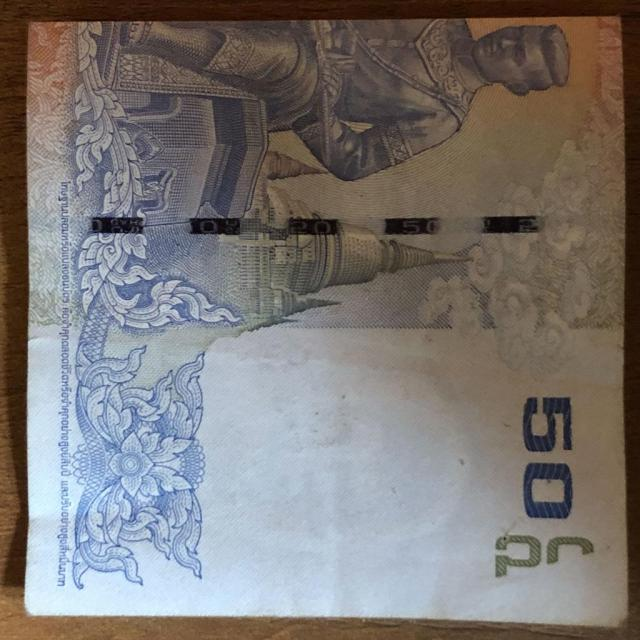THAI50: (24, 17, 627, 625)
